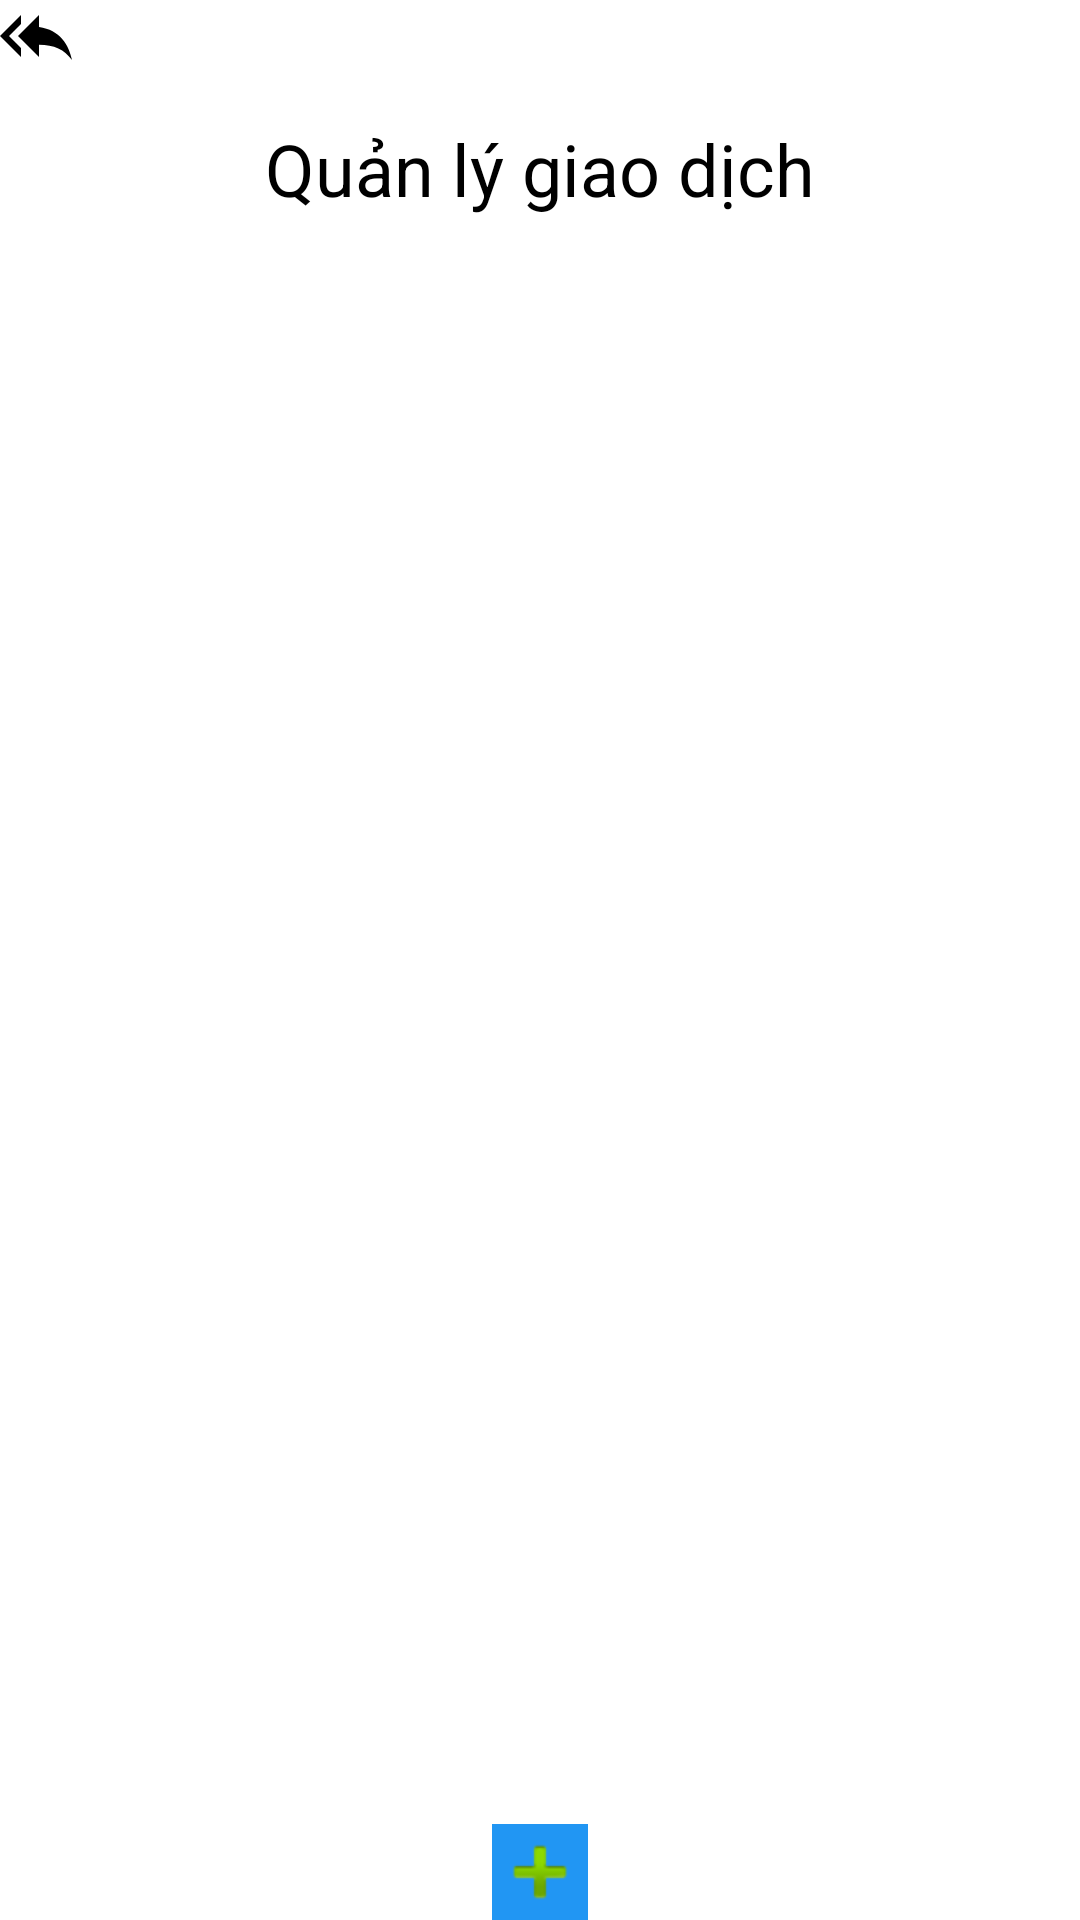

Named icons in this screenshot (1080px×1920px) and their bounding boxes, BBox(x1, y1, x2, y2):
add: BBox(492, 1824, 588, 1920)
